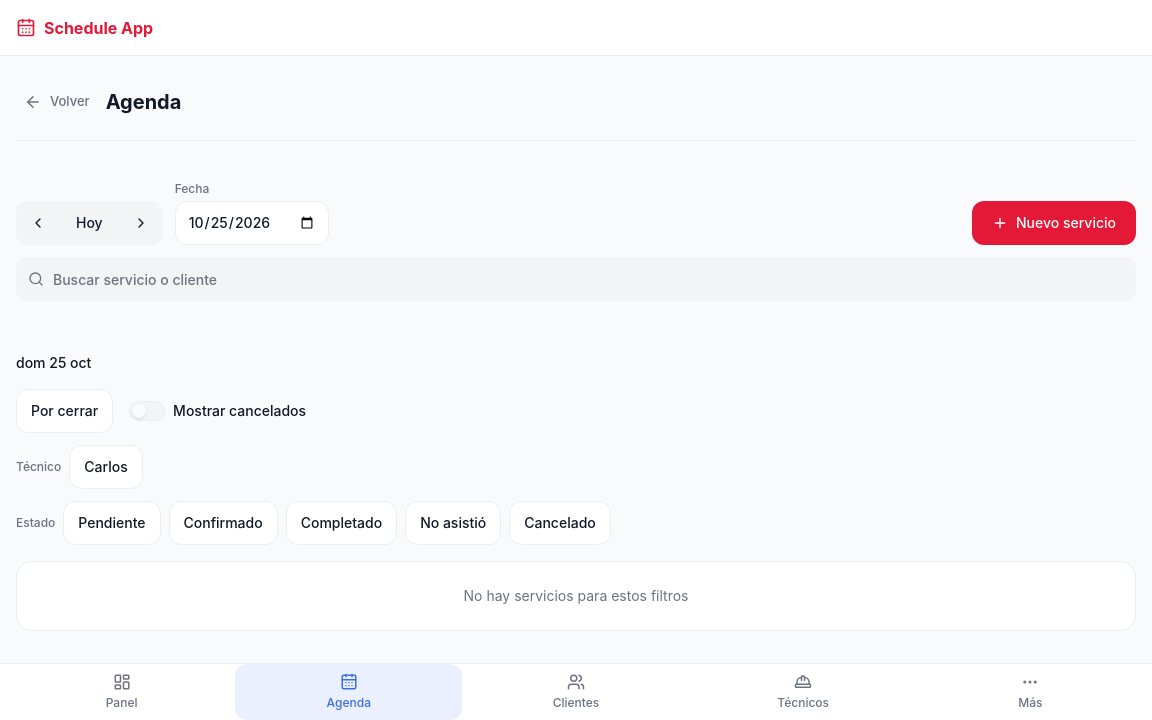
rutas de la aplicación › en móvil /agenda muestra "Volver" y regresa al Panel
Click the button "Volver".
click(57, 102)  # box x1=16 y1=80 x2=98 y2=124
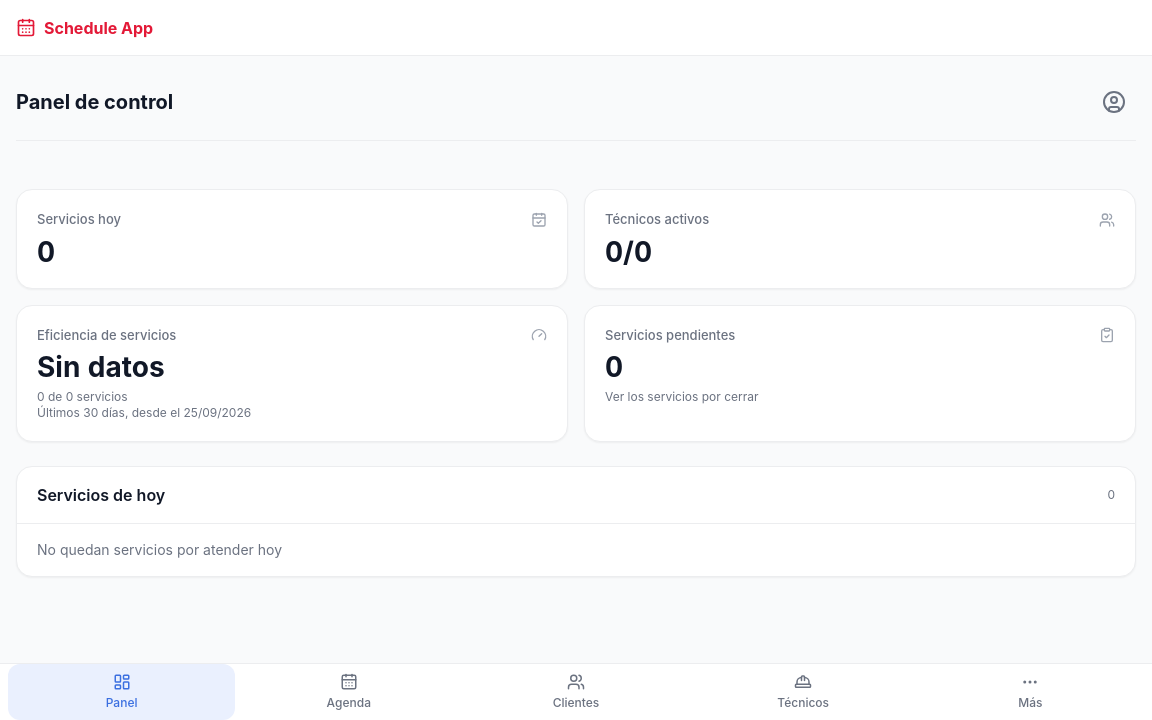
Expected: the heading "Panel de control" is shown, x1=16 y1=88 x2=173 y2=116
